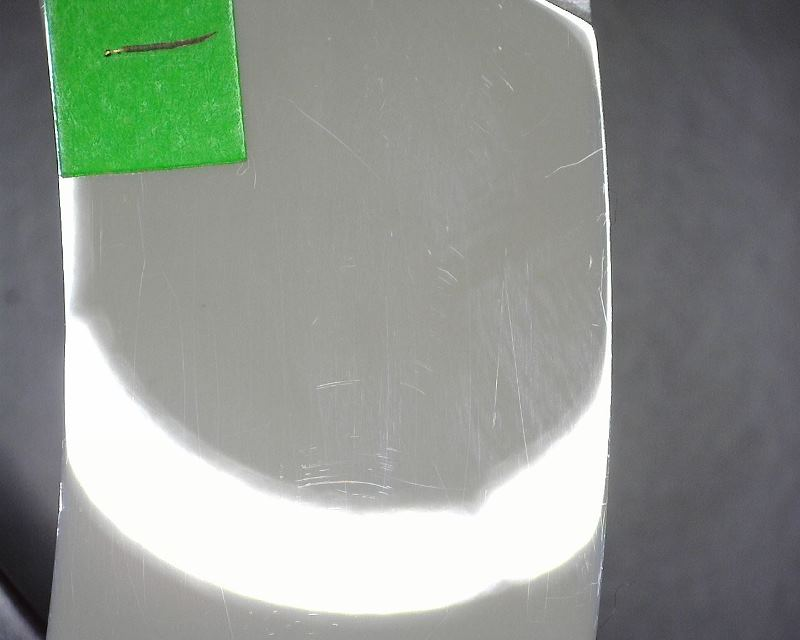scratch: (291, 99, 381, 178), (504, 261, 530, 463), (547, 133, 606, 184), (490, 244, 501, 431), (298, 477, 391, 497), (132, 201, 149, 299), (369, 422, 400, 470), (400, 475, 453, 494), (599, 245, 608, 327), (316, 375, 361, 389), (435, 264, 459, 287), (478, 70, 496, 93), (501, 72, 517, 94), (449, 244, 467, 256), (586, 252, 595, 271)
